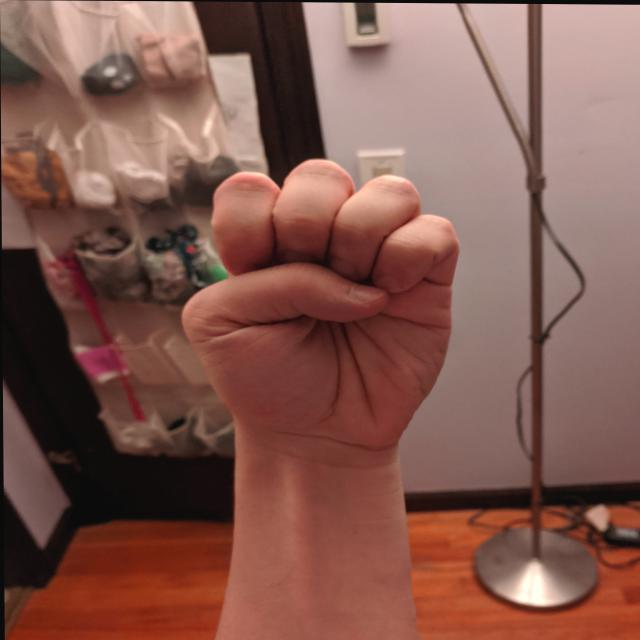E: (171, 153, 467, 455)
